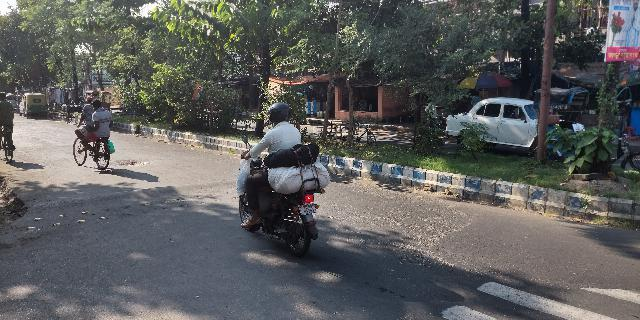Autorickshaw: (20, 90, 52, 120)
Cycle: (70, 97, 118, 175), (1, 92, 21, 165)
Motorbike: (225, 104, 326, 255)
